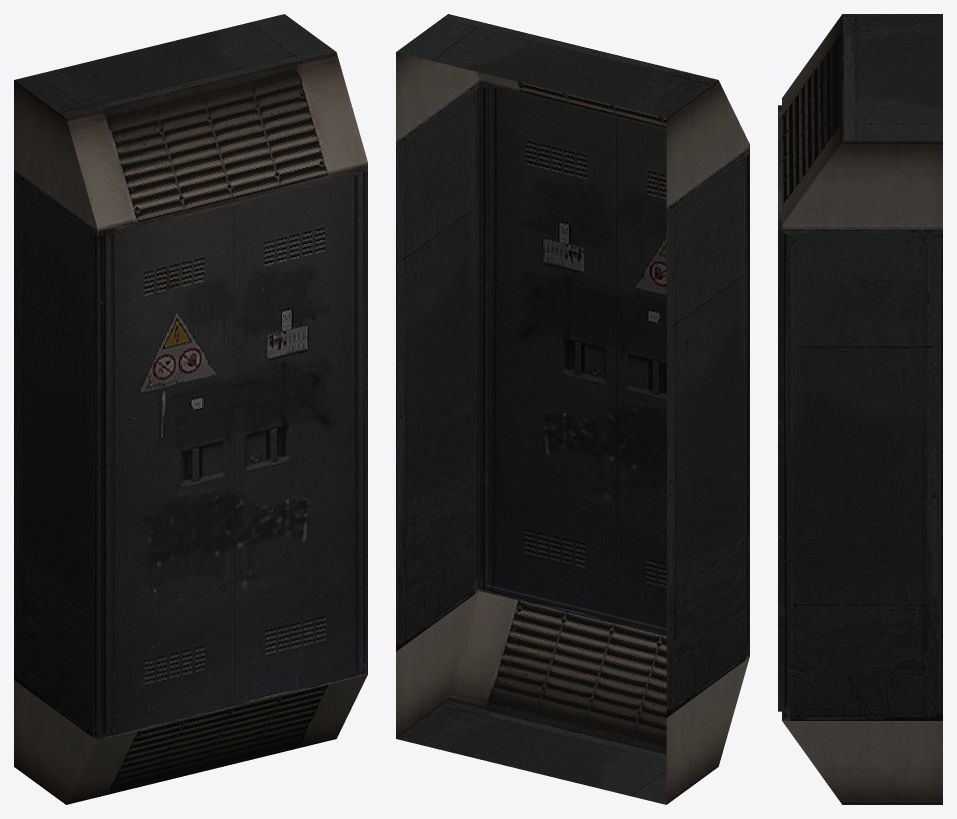
File: electrical_equipment_1.glb
The picture shows the model from 3 angles, left to right: view 1: azimuth 30°, elevation 25°; view 2: azimuth 150°, elevation 25°; view 3: azimuth 270°, elevation 25°; orthographic projection. The views are drawn at different scales.
Parts seen in each view (by area): view 1: electrical_equipment_1; view 2: electrical_equipment_1; view 3: electrical_equipment_1.
Part boxes in pixels (bbox=[...]): electrical_equipment_1: bbox=[14, 14, 367, 804]; electrical_equipment_1: bbox=[396, 14, 749, 804]; electrical_equipment_1: bbox=[778, 14, 942, 804].
Size of the model in its own units: 1.2 by 2.91 by 0.656.
Materials: 1 (1 with a texture image).
